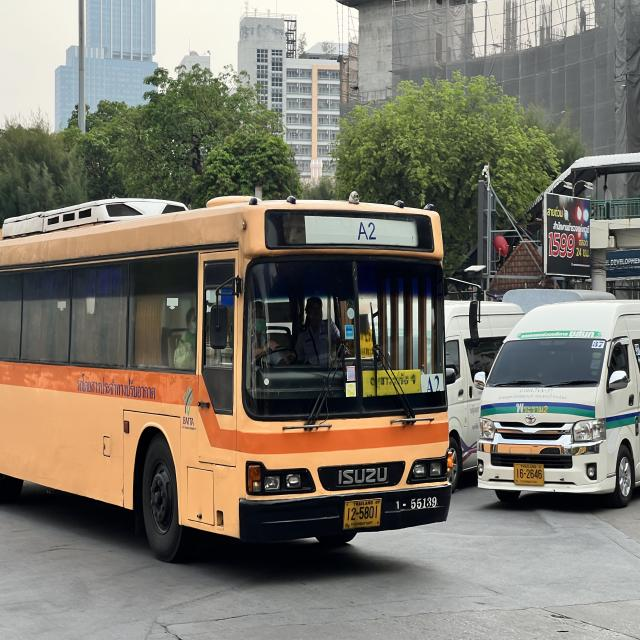BMTA-bus: (0, 183, 456, 567)
Bus-Line-Number: (349, 216, 383, 243)
Destination-Sign-Normal-Expressway: (362, 369, 420, 396)
